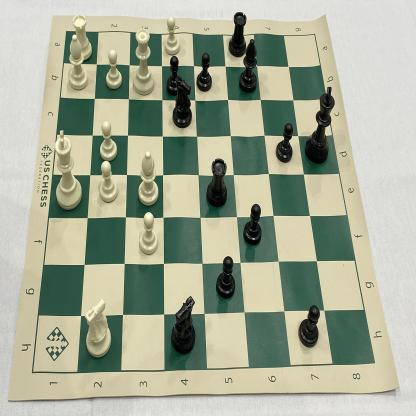black-bishop: (238, 35, 258, 96)
black-king: (303, 83, 337, 166)
black-knight: (167, 287, 199, 357), (167, 75, 197, 130)
black-pawn: (297, 300, 322, 351), (213, 252, 238, 301), (241, 199, 264, 250), (162, 53, 184, 97), (274, 119, 295, 165), (194, 50, 215, 94)
black-rook: (204, 153, 231, 210), (224, 7, 249, 60)
white-bishop: (132, 146, 162, 210), (64, 30, 91, 93)
white-king: (50, 124, 86, 215)
white-knight: (79, 291, 116, 365)
white-pawn: (94, 156, 121, 207), (102, 43, 126, 93), (96, 117, 120, 167), (138, 208, 161, 260), (162, 13, 183, 60)
white-queen: (129, 23, 158, 100)
white-rook: (69, 8, 95, 63)
